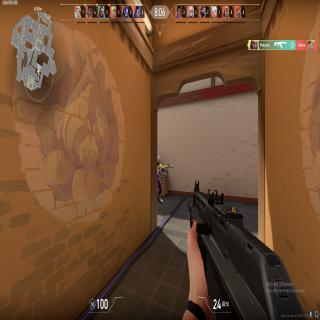ENEMY-BODY: (157, 155, 163, 205)
ENEMY-HEAD: (157, 156, 161, 164)
